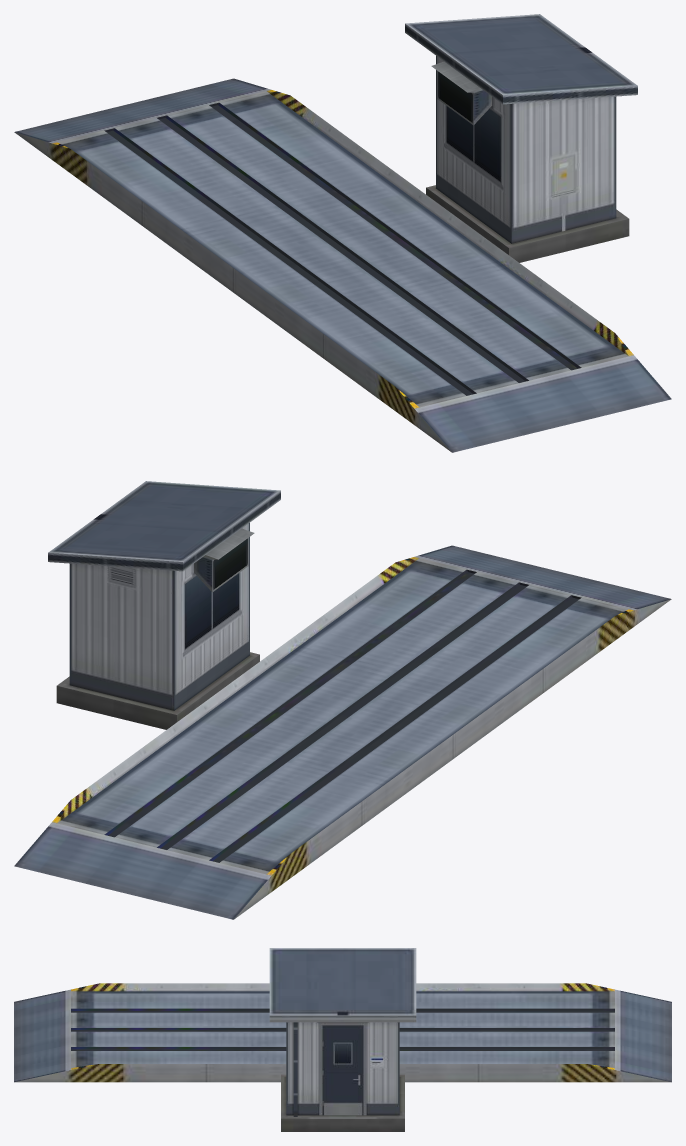
File: yard-weight-scale-body-authored-v2.glb
3 renders of one model, top to bottom at view 1: azimuth 30°, elevation 25°; view 2: azimuth 150°, elevation 25°; view 3: azimuth 270°, elevation 25°, orthographic. The views are drawn at different scales.
Visible parts, largest first — view 1: Yard-weight-scale-bodyBody; view 2: Yard-weight-scale-bodyBody; view 3: Yard-weight-scale-bodyBody.
Part boxes in pixels (<box>): Yard-weight-scale-bodyBody: <box>14,14,671,452</box>; Yard-weight-scale-bodyBody: <box>14,481,671,919</box>; Yard-weight-scale-bodyBody: <box>14,948,671,1131</box>.
Bounding box in the file's own units: 6.8 × 3.27 × 14.51.
Materials: 1 (1 with a texture image).
